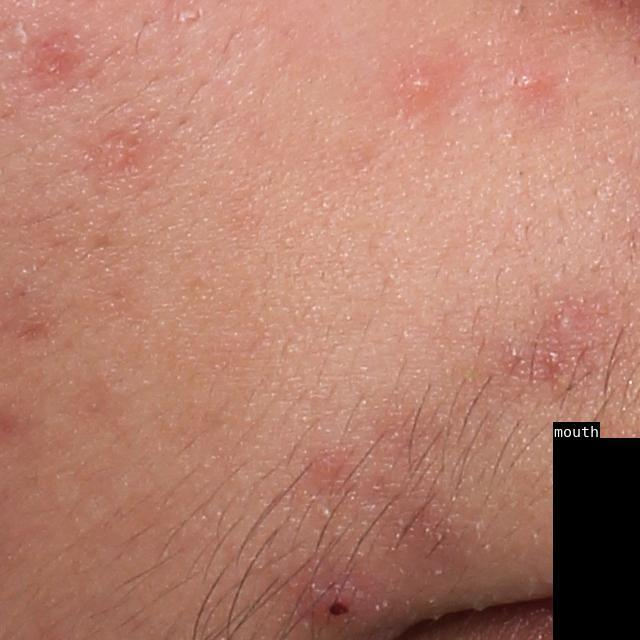papule: (298, 574, 379, 633), (402, 66, 441, 100), (505, 66, 546, 96)
